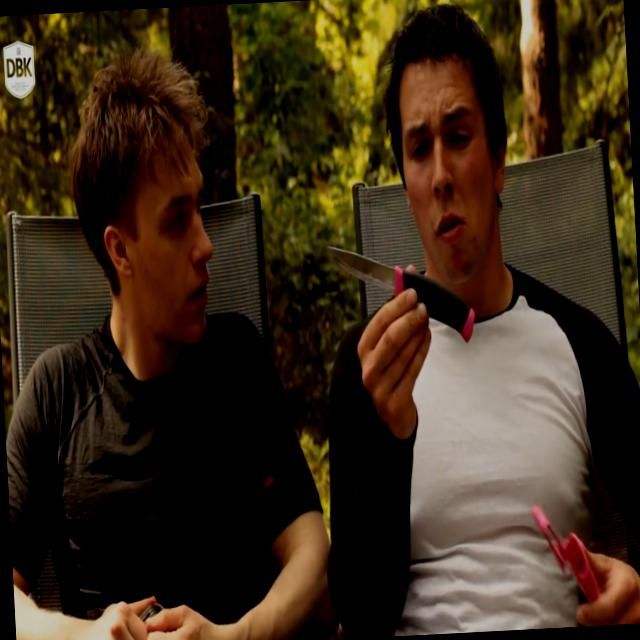knife: (318, 228, 480, 368)
